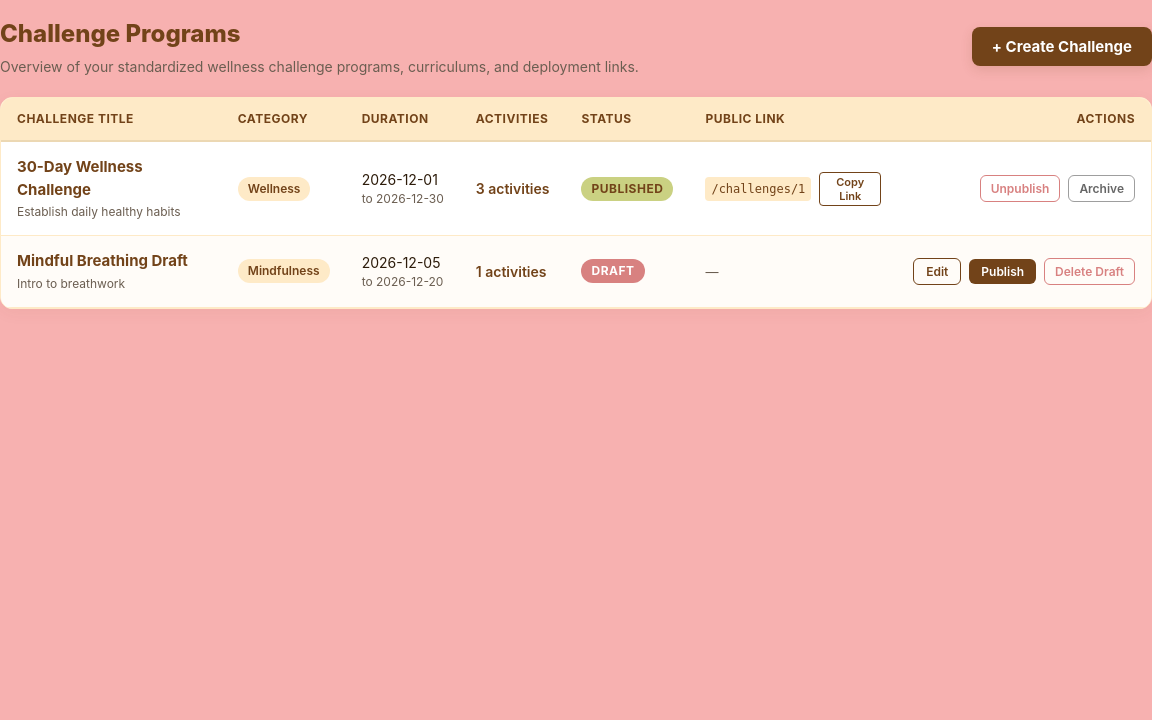
Test: Program Builder Component (UI-07) › prompts confirmation when clicking Cancel in challenge creator and allows discarding
Later steps or results of the test are not shown.
expect the heading "Challenge Programs" is shown: met, box [0,19,240,48]
Open modal
Click the button "+ Create Challenge" at (1062, 46), box [972,27,1151,66]
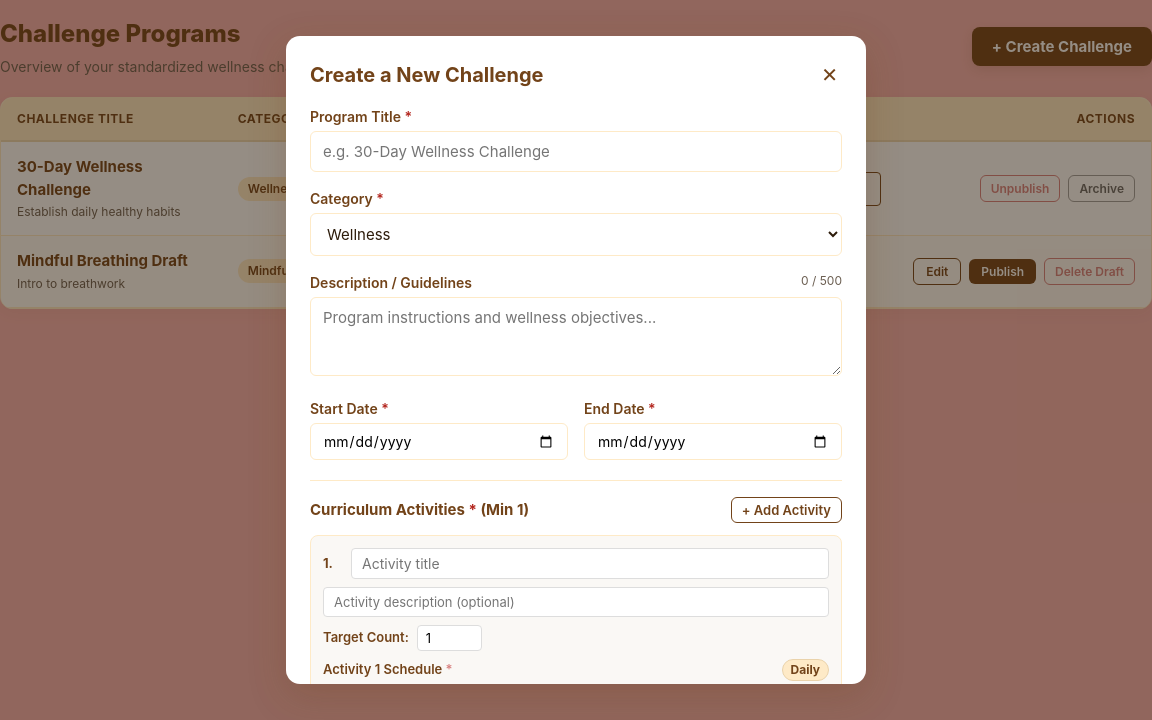
Type "Unfinished Draft" into the field labelled "Program Title *" at (576, 152), box [310,131,842,172]
(page scrolled)
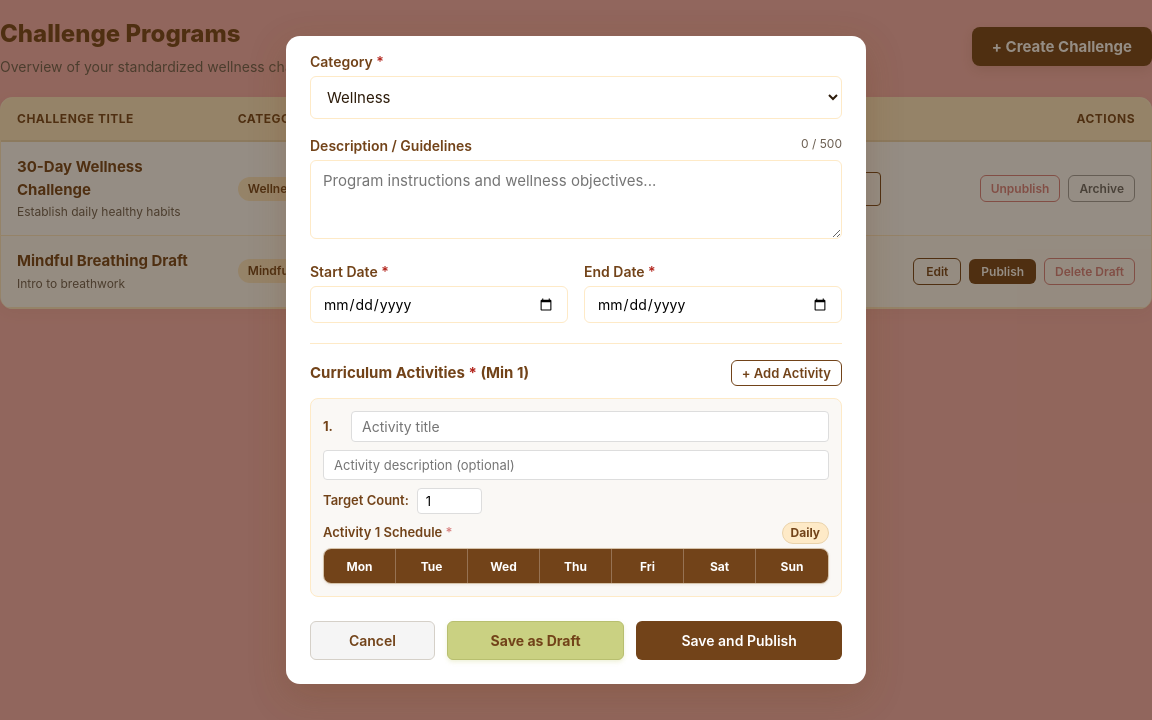
Click Cancel button in modal
Click the button "Cancel" at (372, 640), box [310,621,435,660]
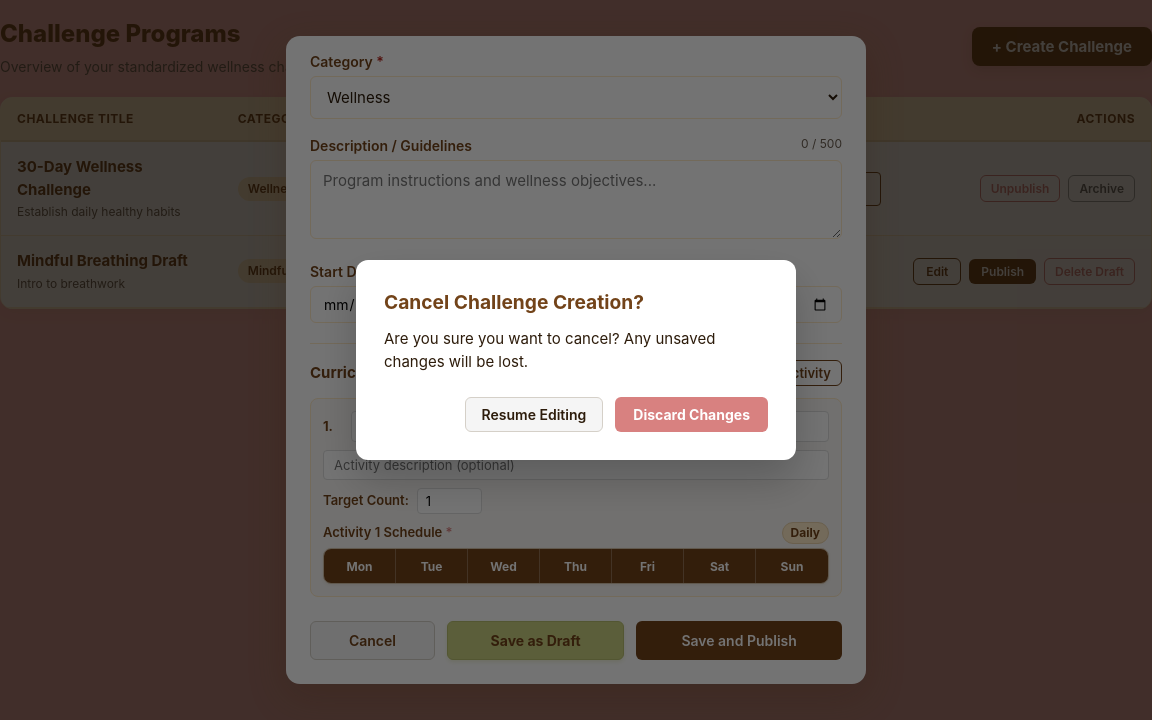
expect the heading "Cancel Challenge Creation?" is shown: met, box [384,290,644,314]
expect the text "Any unsaved changes will be lost" is shown: met, box [384,329,715,371]
Click the button "Resume Editing" at (534, 415), box [465,397,603,432]
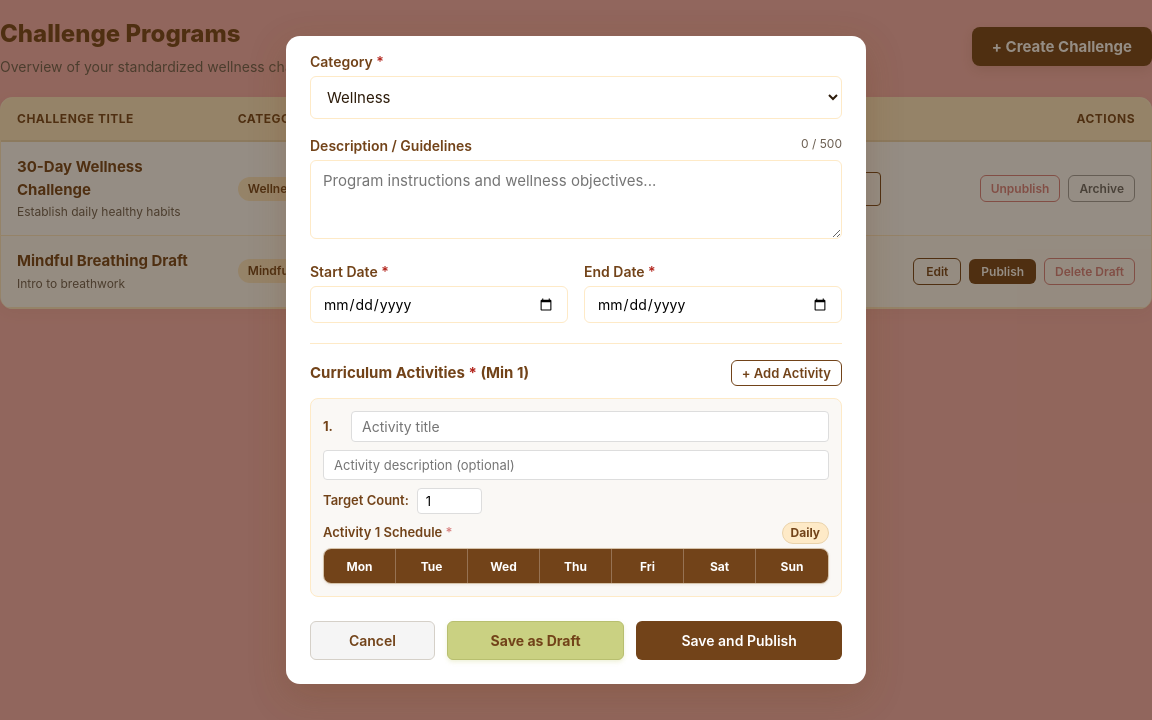
expect the heading "Cancel Challenge Creation?" is gone: met
